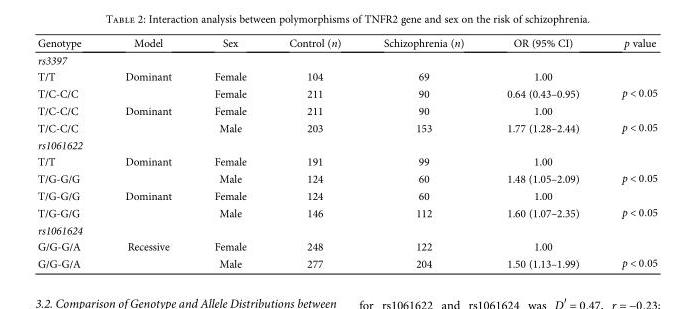table: (36, 36, 657, 270)
table column: (361, 36, 484, 270), (484, 36, 599, 270), (267, 36, 361, 270), (103, 36, 192, 270), (192, 36, 267, 270), (36, 36, 103, 270), (599, 36, 657, 270)
table column header: (36, 36, 657, 51)
table projected row header: (36, 51, 657, 68), (36, 136, 657, 153), (36, 221, 657, 238)
table row: (36, 83, 657, 102), (36, 117, 657, 136), (36, 168, 657, 187), (36, 202, 657, 221), (36, 51, 657, 68), (36, 136, 657, 153), (36, 221, 657, 238), (36, 253, 657, 270), (36, 36, 657, 51), (36, 68, 657, 83), (36, 102, 657, 117), (36, 153, 657, 168), (36, 187, 657, 202), (36, 238, 657, 253)
